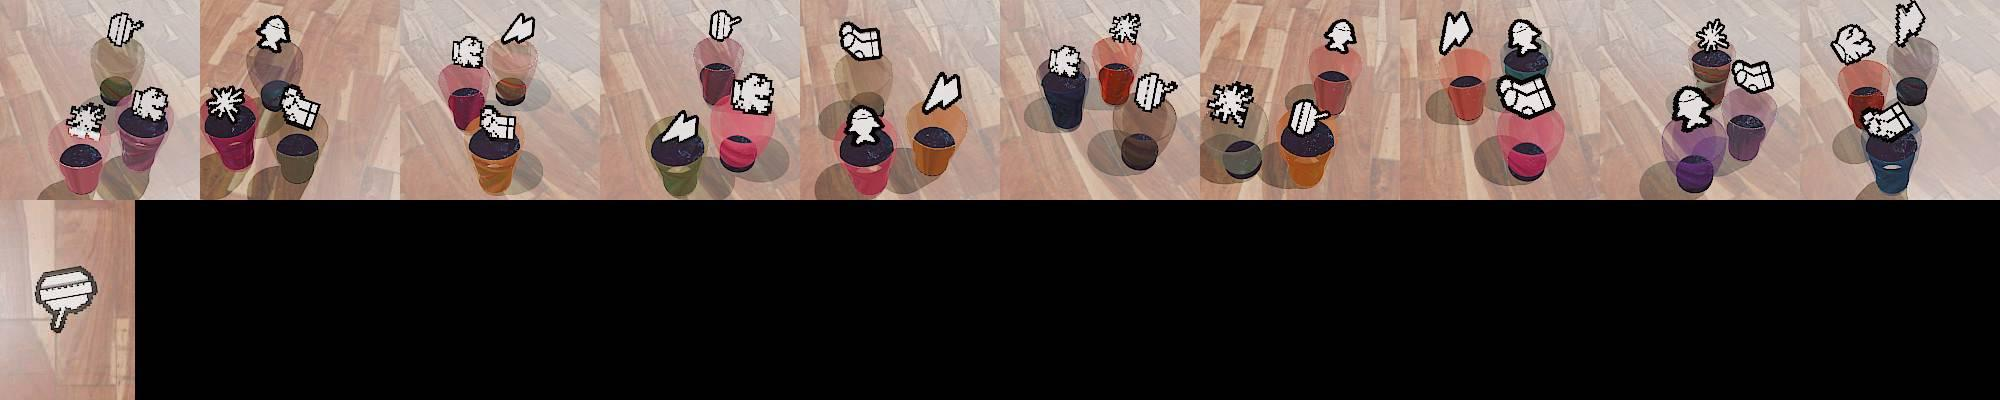icon: (34, 266, 97, 332), (1495, 74, 1558, 118), (1670, 84, 1716, 131), (1205, 81, 1250, 127), (1859, 102, 1914, 139), (1134, 70, 1181, 113), (730, 72, 775, 116), (1830, 23, 1876, 65), (279, 84, 321, 130), (922, 69, 962, 115), (839, 19, 882, 61), (206, 84, 250, 125), (66, 100, 108, 142), (1730, 57, 1774, 95), (1437, 10, 1473, 56), (845, 105, 885, 146), (129, 85, 170, 124), (657, 108, 701, 144), (1507, 18, 1546, 57), (478, 104, 518, 142), (1894, 1, 1926, 47), (255, 14, 292, 53), (1692, 17, 1729, 55), (106, 12, 145, 48), (1289, 96, 1324, 136), (1322, 17, 1357, 54), (1047, 44, 1084, 79), (450, 34, 485, 68), (500, 12, 536, 45), (708, 9, 742, 42), (1108, 12, 1142, 44)
